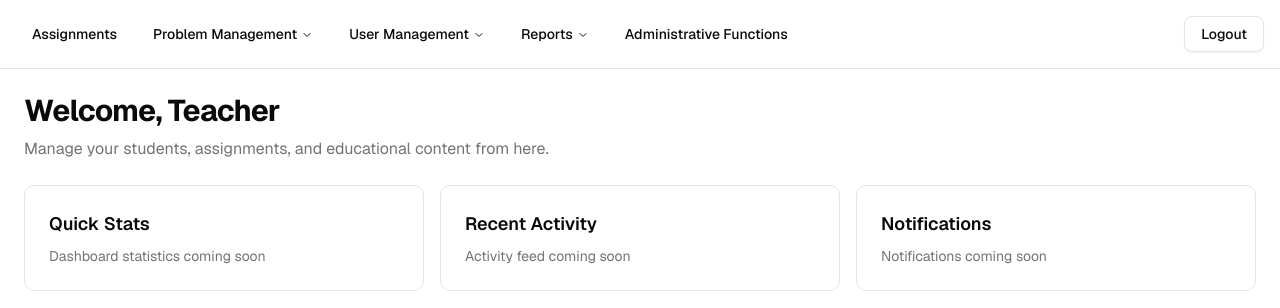
Teacher Logout - Scenario 9 › should disable logout button during logout process
Click the button "Logout". click: (1224, 34)
box: [1184,16,1264,52]
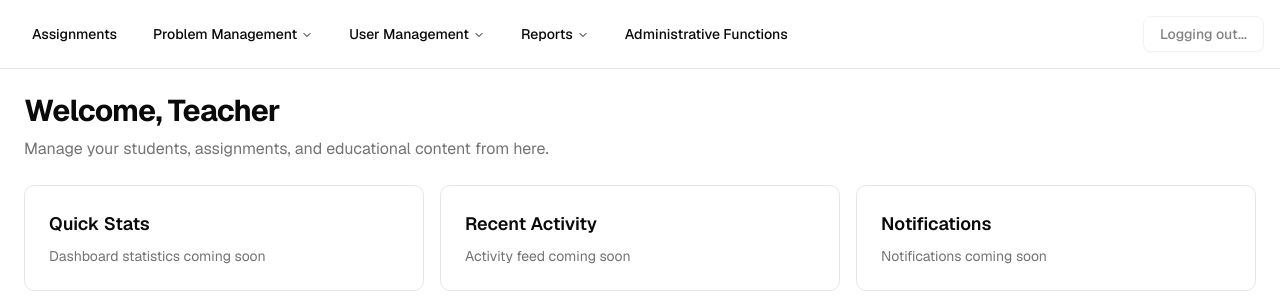
Expected: the button named "logout" is disabled, [1143,16,1264,52]
